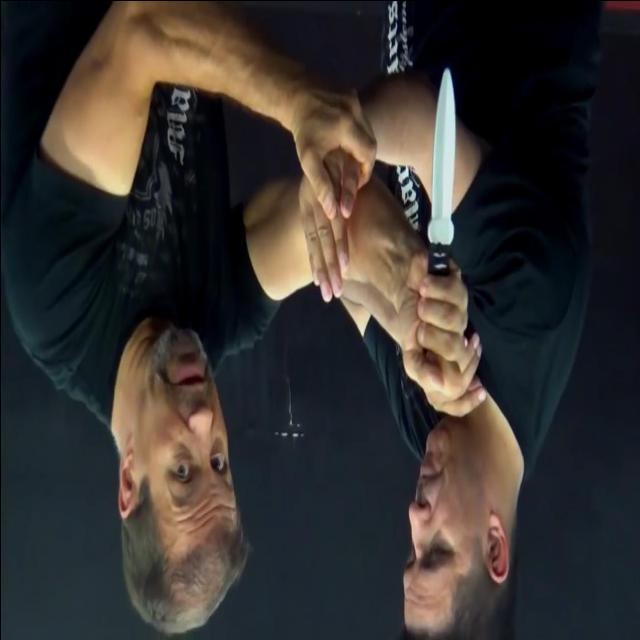Knife: (405, 59, 474, 397)
